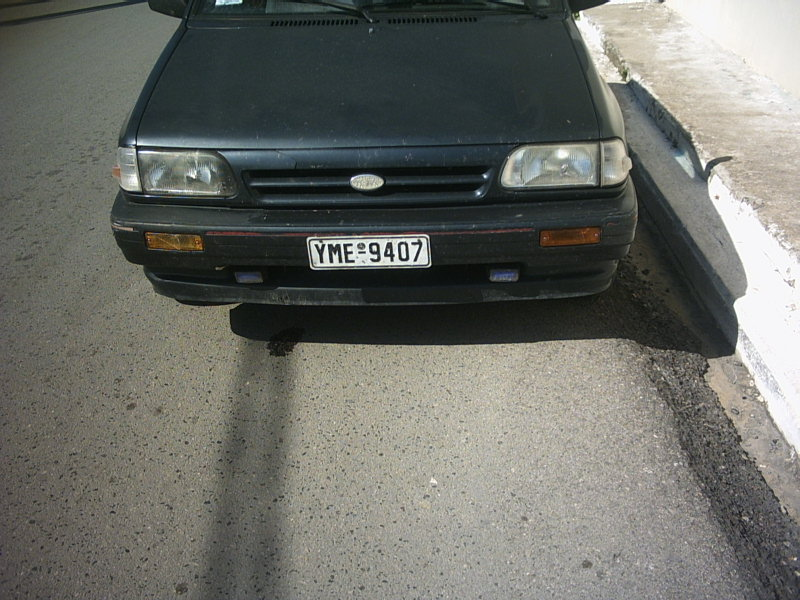licenseplate: (307, 232, 433, 268)
